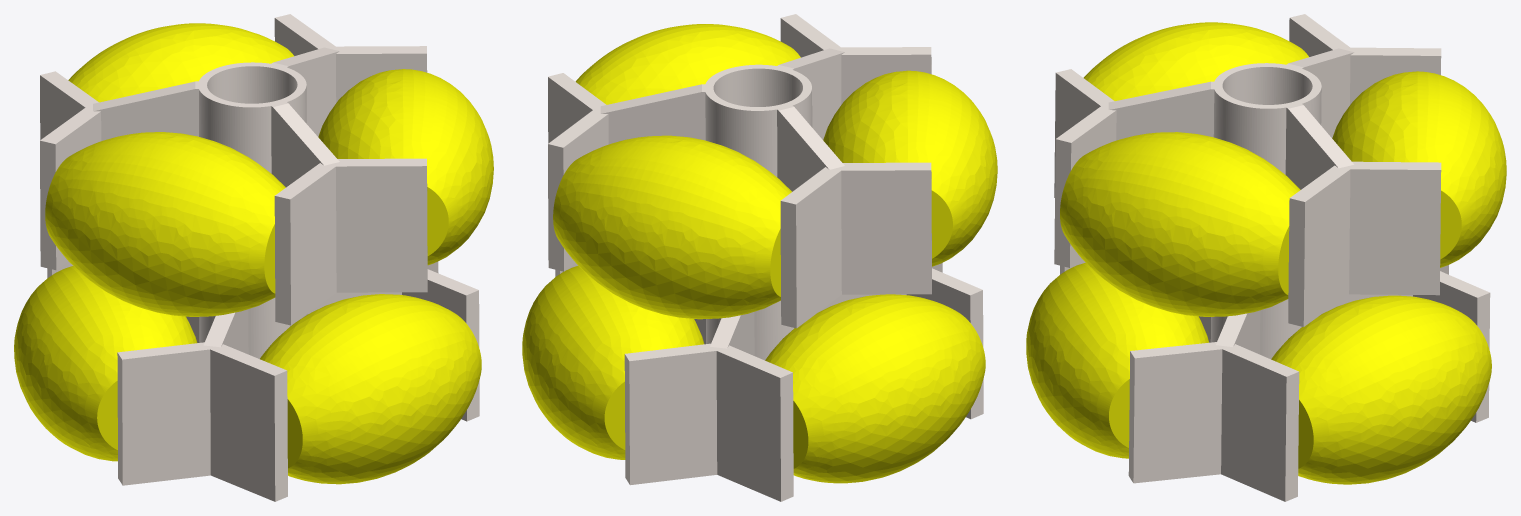
Rendered from omni_wheel.dae.
3 renders of one model, left to right at view 1: azimuth 30°, elevation 25°; view 2: azimuth 150°, elevation 25°; view 3: azimuth 270°, elevation 25°, orthographic.
Parts seen in each view (by area): view 1: node5; view 2: node5; view 3: node5.
Boxes of the visible parts, left/top/right/bottom form: node5: left=14, top=14, right=493, bottom=501; node5: left=522, top=14, right=997, bottom=501; node5: left=1026, top=14, right=1506, bottom=501.
Size of the model in its own units: 0.0789 by 0.0801 by 0.0642.
